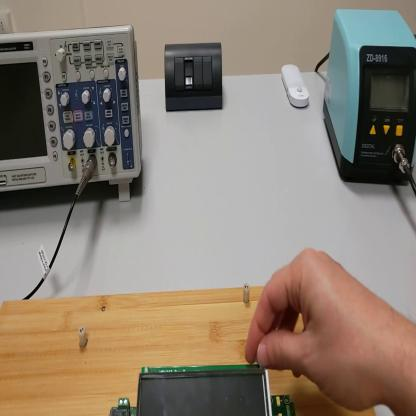hand: (248, 247, 394, 405)
low voltage board: (109, 362, 296, 416)
oscilloscope: (1, 24, 145, 202)
welder station: (325, 12, 416, 187)
working area: (2, 286, 379, 414)
